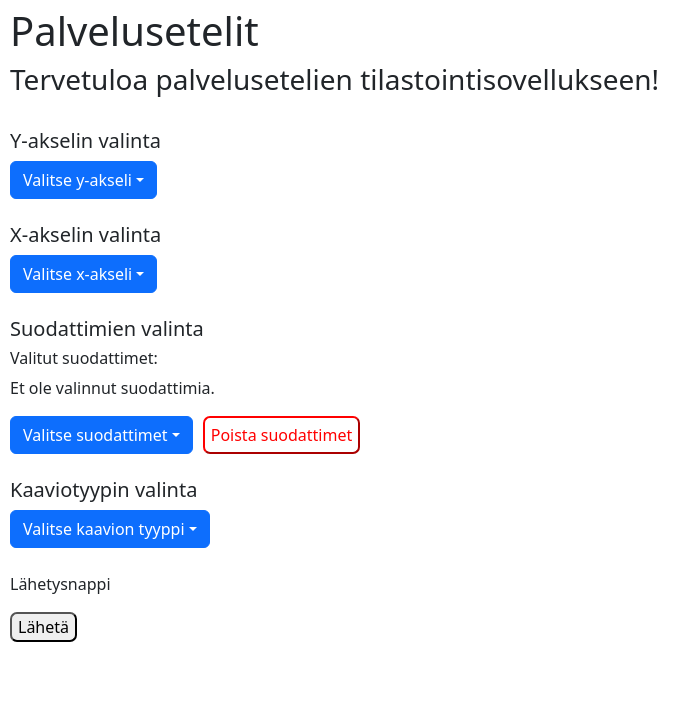
Scenario: App › renders the date selectors when Päätöksen päivämäärä in filters
Click the button "Valitse suodattimet": [101, 435] box [10,416,193,454]
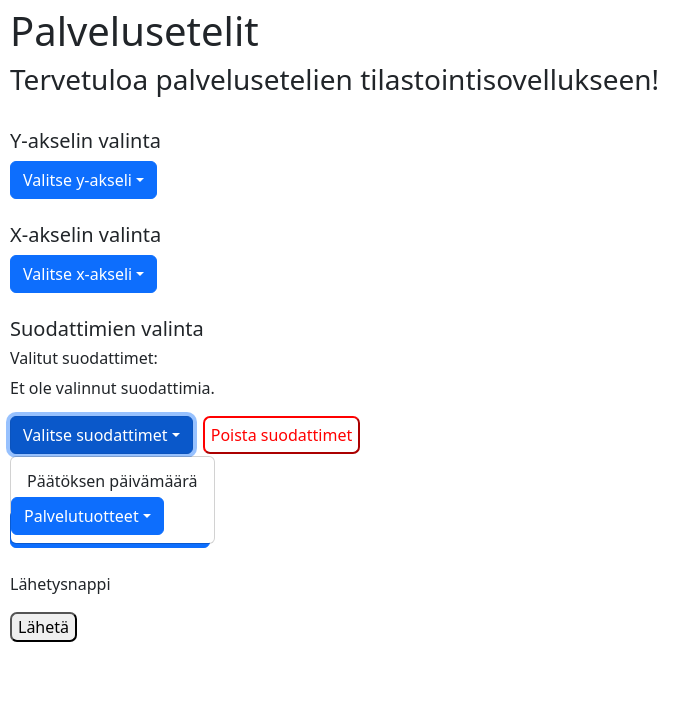
Click the button "Päätöksen päivämäärä": [112, 481] box [27,470,198,492]
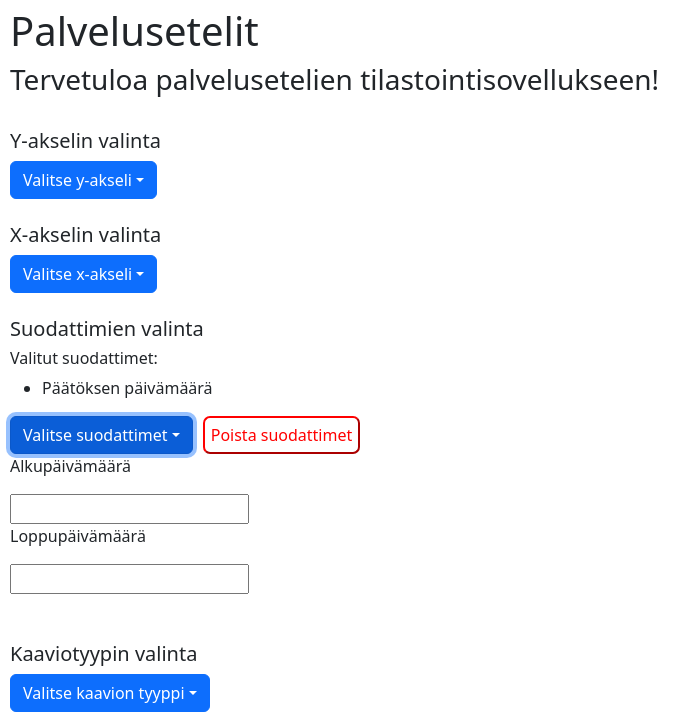
Result: the element with test id "datepickers" is shown at [10,455,249,594]
